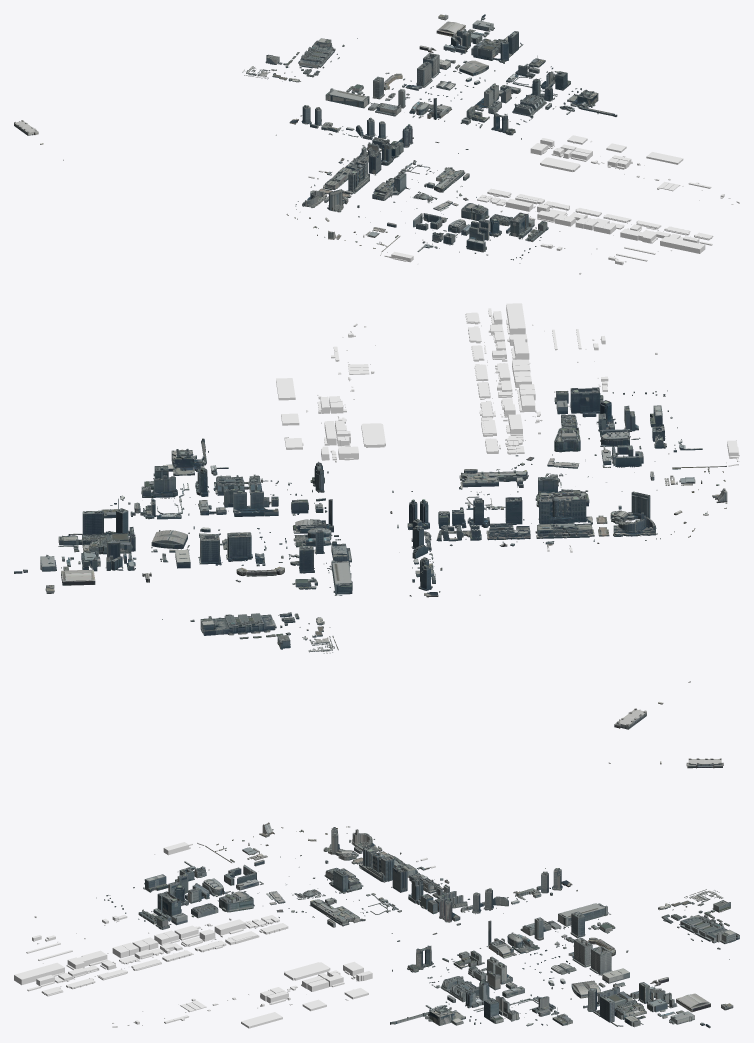
Rendered from tokyo-city-mobile.glb.
The picture shows the model from 3 angles, top to bottom: view 1: azimuth 30°, elevation 25°; view 2: azimuth 150°, elevation 25°; view 3: azimuth 270°, elevation 25°; orthographic projection. The views are drawn at different scales.
Parts seen in each view (by area): view 1: Tokyo_13108-data167, Tokyo_13108-data191, Tokyo_13108-data169, Tokyo_13108-data188, Tokyo_13108-data179, Tokyo_13108-data193, Tokyo_13108-data180, Tokyo_13108-data189, Tokyo_13108-data186, Tokyo_13108-data178, Tokyo_13108-data187, Tokyo_13108-data181 (+4 smaller); view 2: Tokyo_13108-data167, Tokyo_13108-data191, Tokyo_13108-data179, Tokyo_13108-data169, Tokyo_13108-data188, Tokyo_13108-data180, Tokyo_13108-data193, Tokyo_13103-data439, Tokyo_13108-data178, Tokyo_13108-data189, Tokyo_13108-data186, Tokyo_13108-data181 (+6 smaller); view 3: Tokyo_13108-data167, Tokyo_13108-data191, Tokyo_13108-data188, Tokyo_13108-data169, Tokyo_13108-data179, Tokyo_13108-data189, Tokyo_13108-data193, Tokyo_13108-data180, Tokyo_13108-data178, Tokyo_13108-data187, Tokyo_13108-data186, Tokyo_13108-data181 (+8 smaller).
Boxes of the visible parts, <box> form: Tokyo_13108-data167: <box>436,14,545,76</box>; Tokyo_13108-data191: <box>372,164,489,234</box>; Tokyo_13108-data169: <box>500,65,617,116</box>; Tokyo_13108-data188: <box>575,208,712,254</box>; Tokyo_13108-data179: <box>289,38,409,108</box>; Tokyo_13108-data193: <box>443,212,536,263</box>; Tokyo_13108-data180: <box>428,79,534,139</box>; Tokyo_13108-data189: <box>527,203,647,274</box>; Tokyo_13108-data186: <box>530,138,600,171</box>; Tokyo_13108-data178: <box>357,38,480,93</box>; Tokyo_13108-data187: <box>437,167,569,213</box>; Tokyo_13108-data181: <box>368,89,468,153</box>; Tokyo_13108-data167: <box>14,498,187,593</box>; Tokyo_13108-data191: <box>461,426,641,509</box>; Tokyo_13108-data179: <box>190,546,352,639</box>; Tokyo_13108-data169: <box>110,438,249,519</box>; Tokyo_13108-data188: <box>468,303,557,399</box>; Tokyo_13108-data180: <box>193,461,328,548</box>; Tokyo_13108-data193: <box>561,387,672,441</box>; Tokyo_13103-data439: <box>535,495,594,541</box>; Tokyo_13108-data178: <box>142,532,266,619</box>; Tokyo_13108-data189: <box>492,329,657,421</box>; Tokyo_13108-data186: <box>321,417,385,462</box>; Tokyo_13108-data181: <box>286,490,412,566</box>; Tokyo_13108-data167: <box>552,980,733,1028</box>; Tokyo_13108-data191: <box>202,867,388,925</box>; Tokyo_13108-data188: <box>14,945,193,992</box>; Tokyo_13108-data169: <box>390,980,559,1026</box>; Tokyo_13108-data179: <box>554,903,739,956</box>; Tokyo_13108-data189: <box>26,909,215,955</box>; Tokyo_13108-data193: <box>96,867,218,921</box>; Tokyo_13108-data180: <box>392,945,556,991</box>; Tokyo_13108-data178: <box>551,938,729,989</box>; Tokyo_13108-data187: <box>195,915,365,952</box>; Tokyo_13108-data186: <box>284,961,372,991</box>; Tokyo_13108-data181: <box>391,917,561,957</box>.
Size of the model in its own units: 3233 by 148 by 3727.
Materials: 42 (41 with a texture image).
